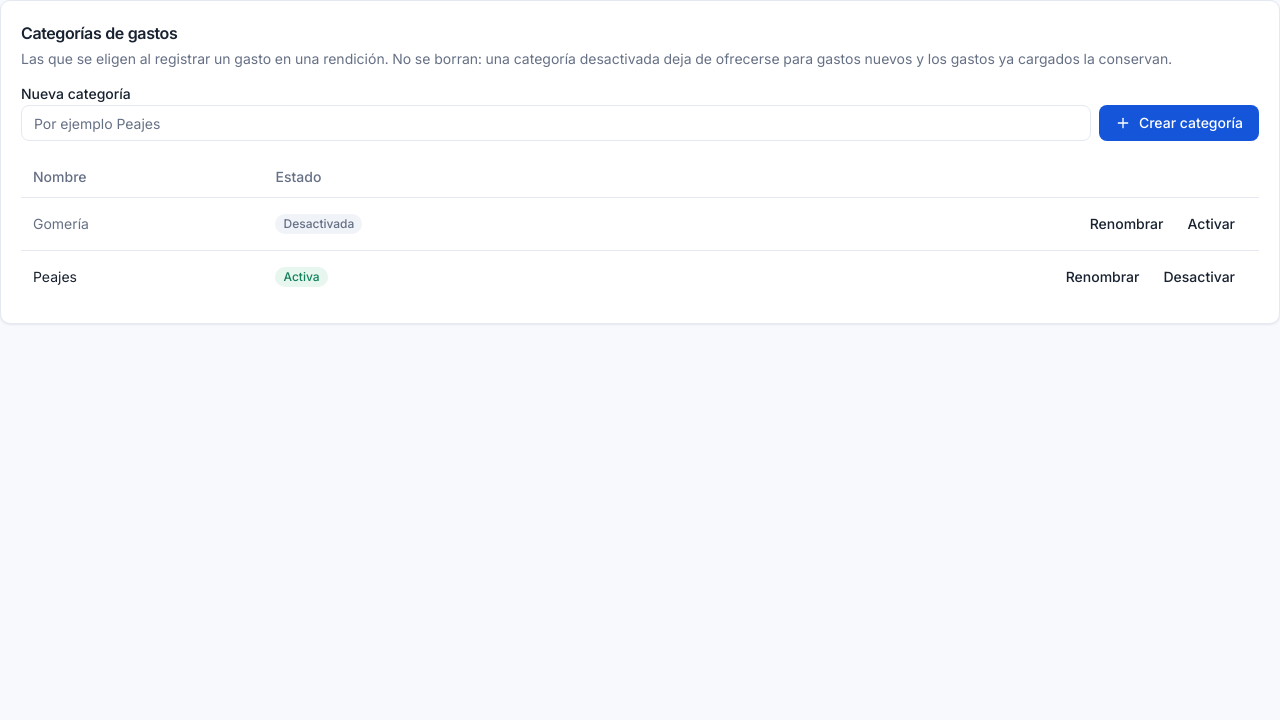
Scenario: expense categories configuration › deactivates, activates and renames without deleting anything
The image size is (1280, 720).
Click the button with aria-label "Desactivar Peajes" at (1199, 276), box left=1152, top=260, right=1247, bottom=292
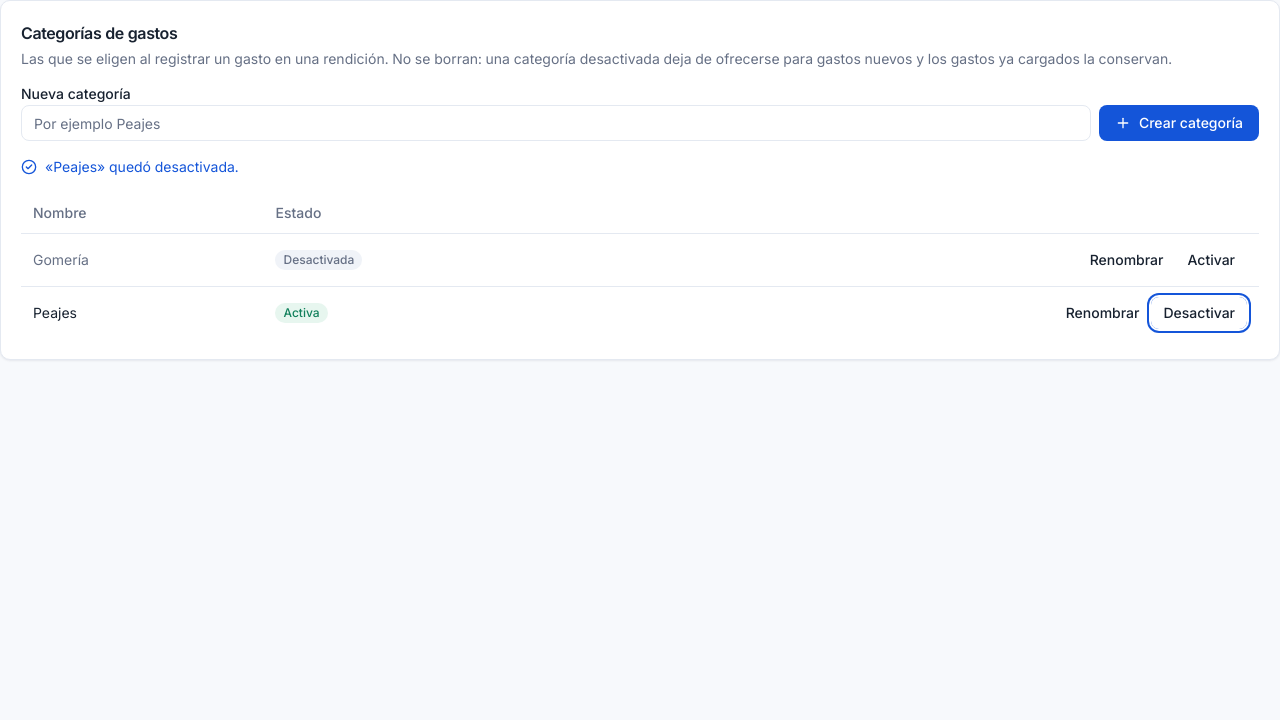
Result: the text "«Peajes» quedó desactivada." is shown at left=21, top=158, right=239, bottom=175
Click the button with aria-label "Activar Gomería" at (1211, 260), box left=1176, top=244, right=1247, bottom=276
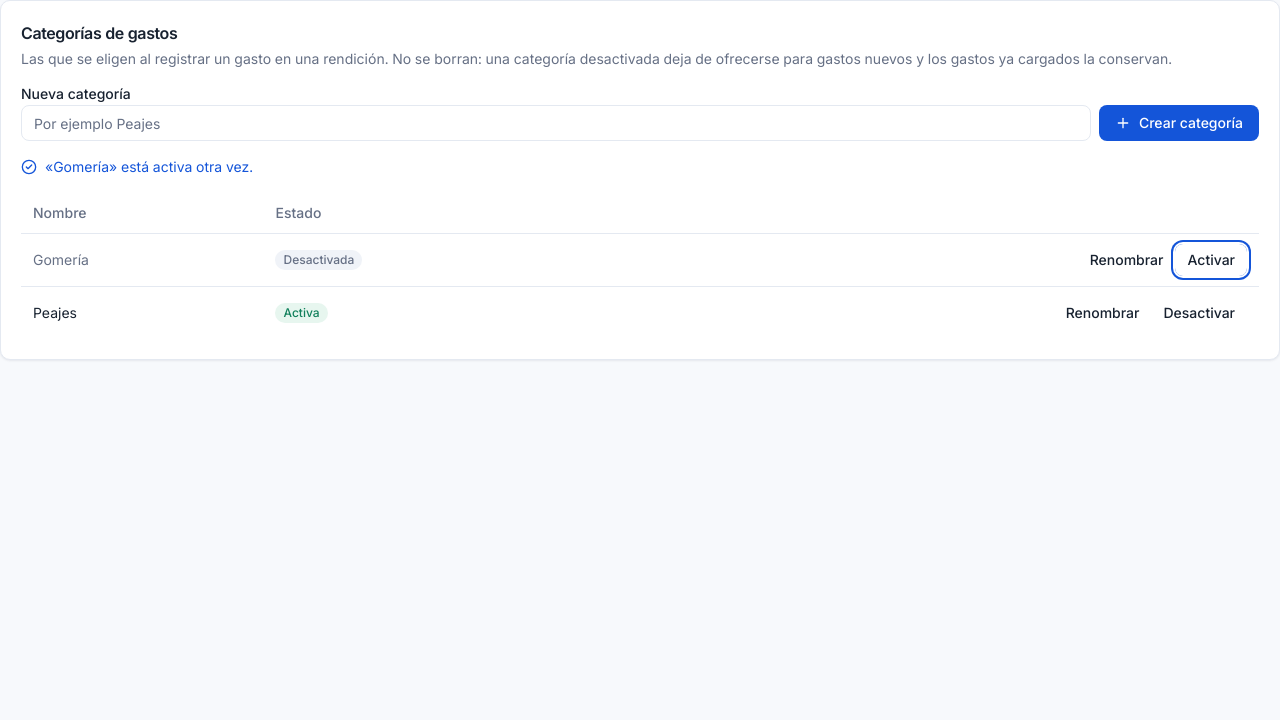
Result: the text "«Gomería» está activa otra vez." is shown at left=21, top=158, right=253, bottom=175
Click the button "Renombrar" in the row of "Peajes" at (1103, 312), box left=1054, top=296, right=1152, bottom=328
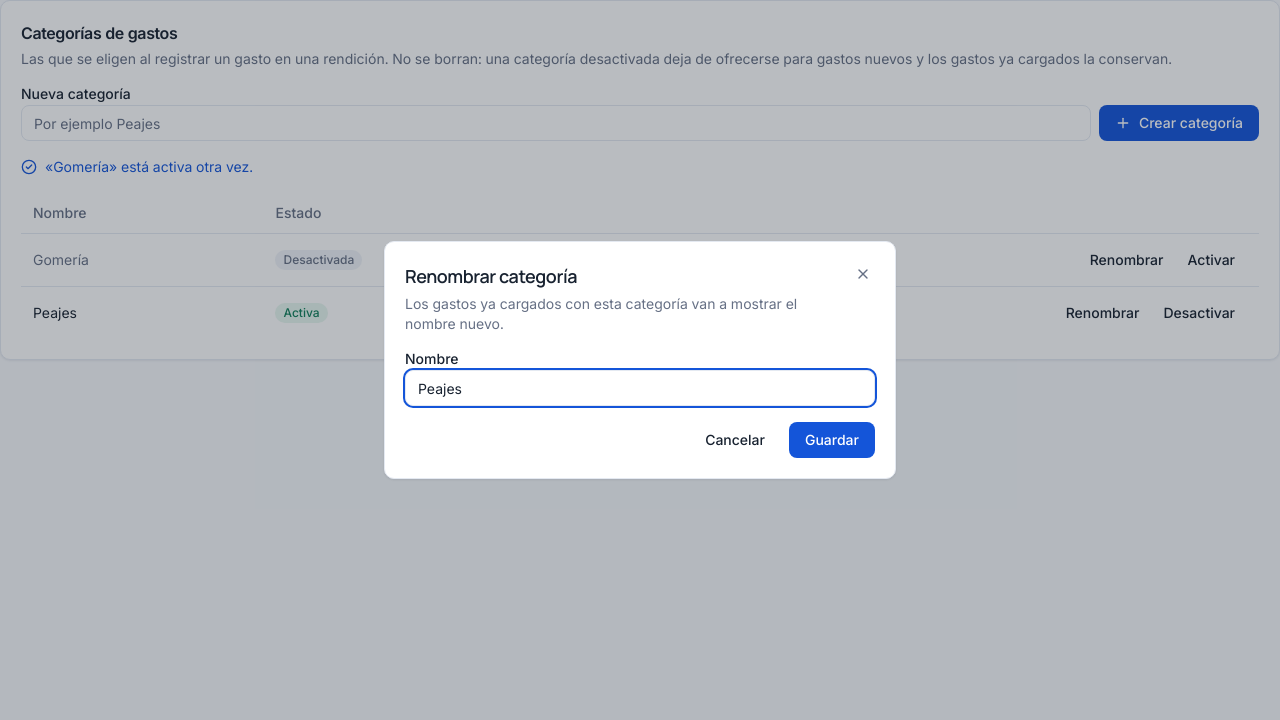
Replace the text in the field labelled "Nombre" with " Peajes y   autopistas " at (640, 388), box left=405, top=370, right=875, bottom=406
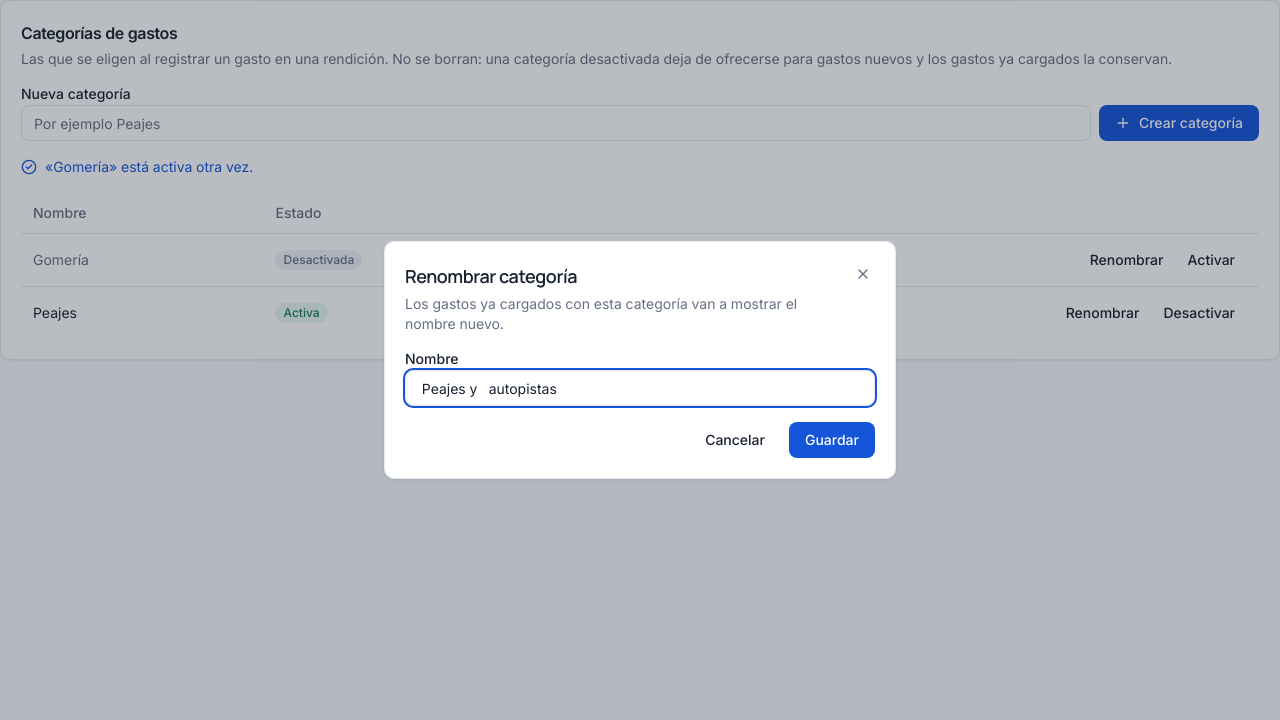
Click the button "Guardar" at (832, 440), box left=789, top=422, right=875, bottom=458
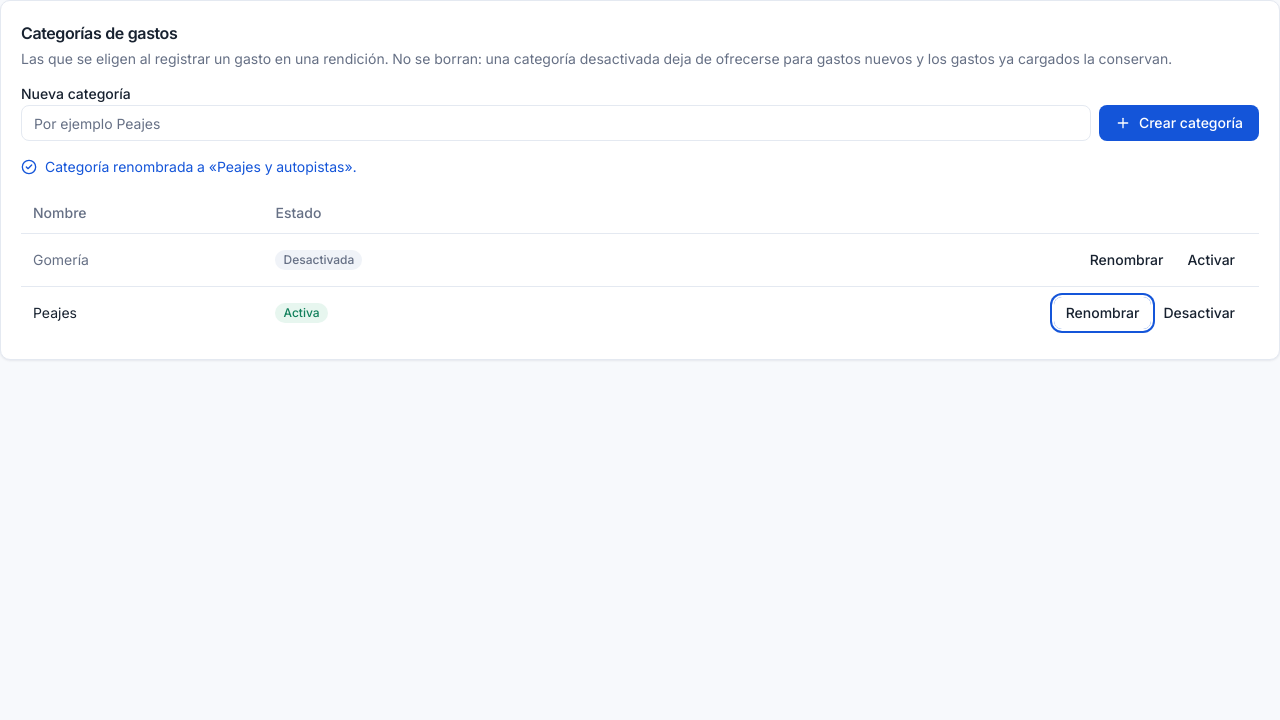
Result: the text "Categoría renombrada a «Peajes y autopistas»." is shown at left=21, top=158, right=356, bottom=175
